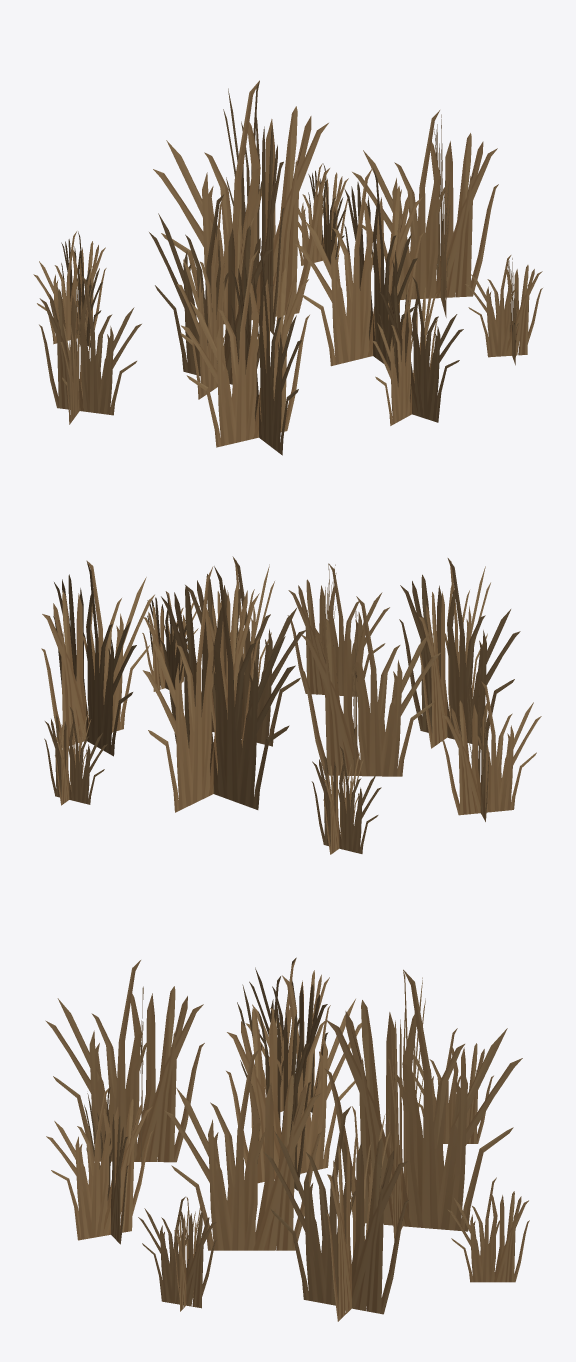
Rendered from SmallDryGrassM.fbx.
The picture shows the model from 3 angles, top to bottom: view 1: azimuth 30°, elevation 25°; view 2: azimuth 150°, elevation 25°; view 3: azimuth 270°, elevation 25°; orthographic projection. The views are drawn at different scales.
Parts seen in each view (by area): view 1: Dry Grass; view 2: Dry Grass; view 3: Dry Grass.
Boxes of the visible parts, x1=… form: Dry Grass: x1=33, y1=80, x2=542, y2=455; Dry Grass: x1=41, y1=556, x2=541, y2=854; Dry Grass: x1=45, y1=957, x2=529, y2=1321.
Size of the model in its own units: 98.7 by 44.65 by 84.34.
Materials: 1 (1 with a texture image).
